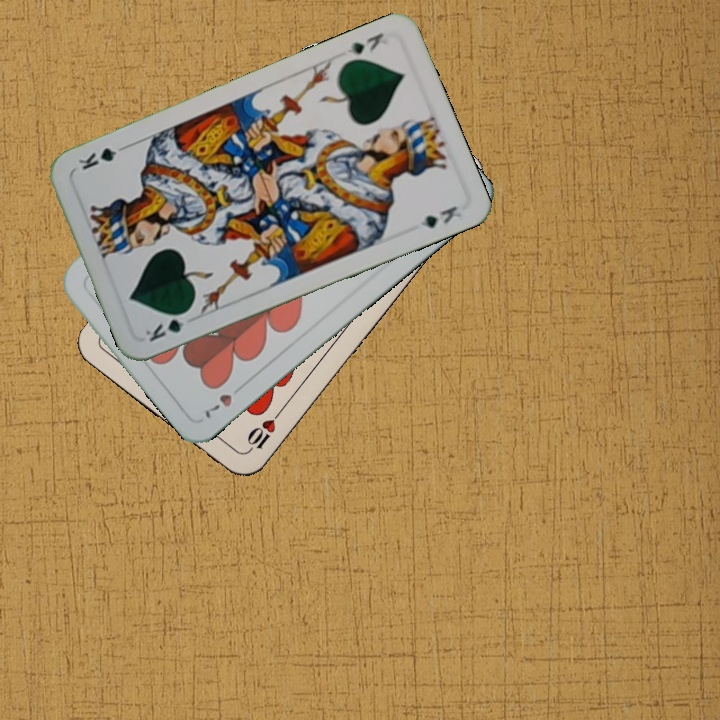GK: (141, 306, 193, 345), (342, 28, 386, 57)
H10: (242, 405, 285, 455)
H7: (198, 379, 248, 421)
